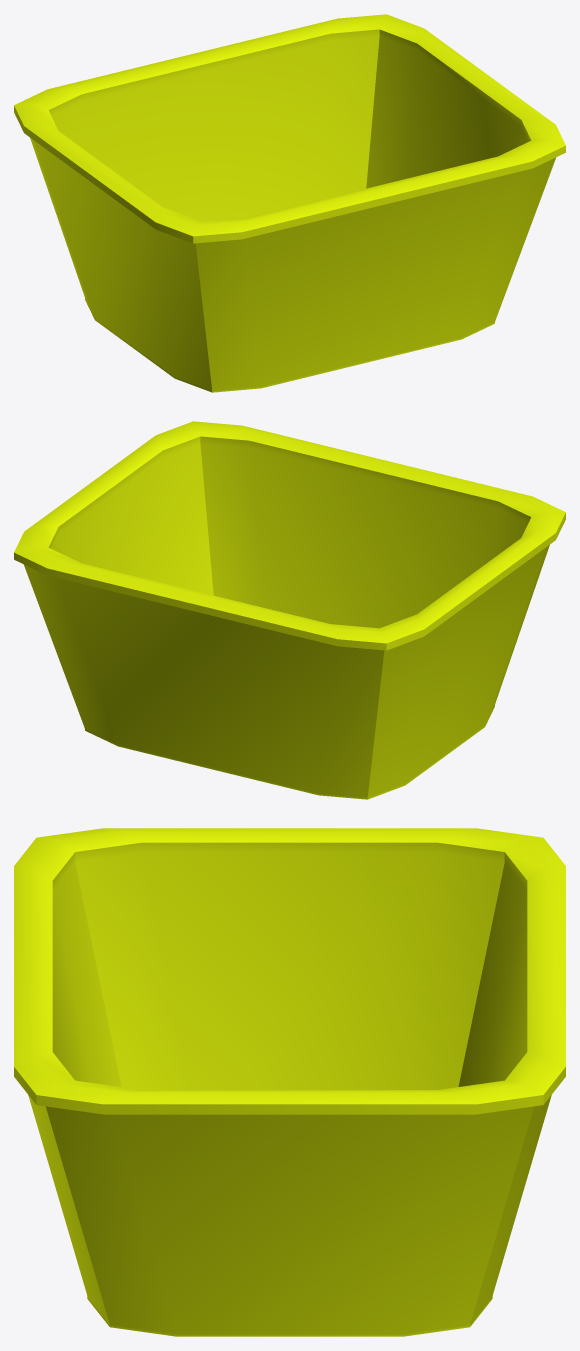
Rendered from Basket3.FBX.
The picture shows the model from 3 angles, top to bottom: view 1: azimuth 30°, elevation 25°; view 2: azimuth 150°, elevation 25°; view 3: azimuth 270°, elevation 25°; orthographic projection. The views are drawn at different scales.
Parts seen in each view (by area): view 1: Box025; view 2: Box025; view 3: Box025.
Part boxes in pixels (bbox=[...]): Box025: bbox=[14, 14, 565, 392]; Box025: bbox=[14, 421, 565, 799]; Box025: bbox=[14, 828, 565, 1336].
Size of the model in its own units: 1.32 by 0.5945 by 1.11.
